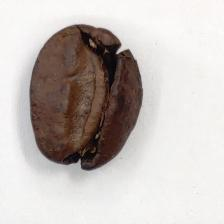NG: (62, 36, 129, 158)
